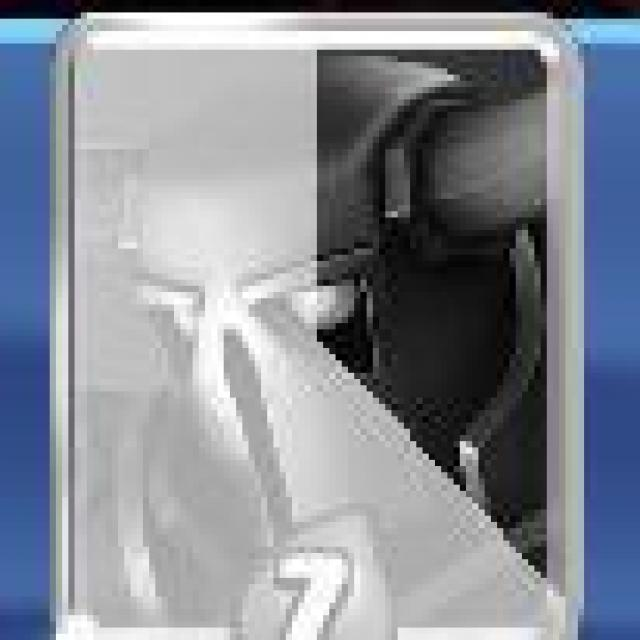Pekka: (52, 11, 584, 637)
